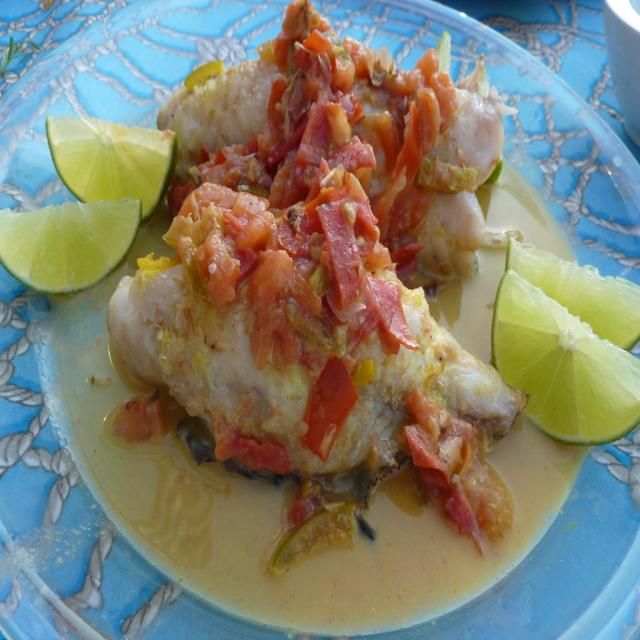Lemon: (490, 271, 640, 442), (44, 117, 180, 225), (506, 242, 640, 348), (1, 205, 142, 297)
